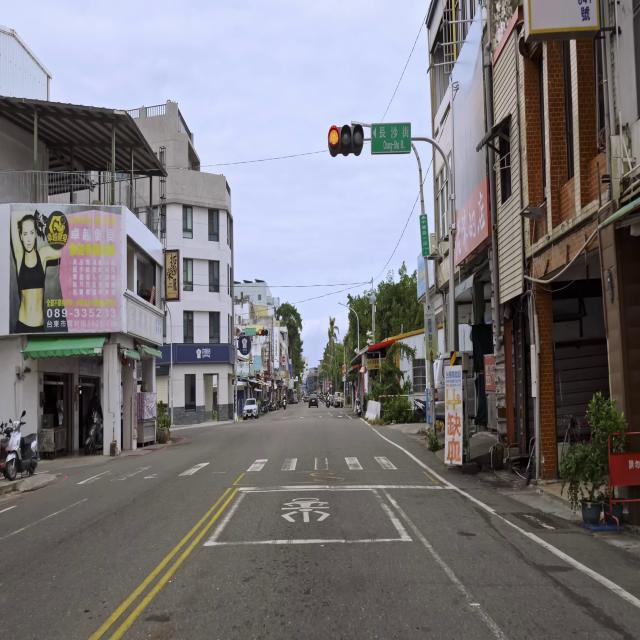red light: (328, 125, 363, 150), (258, 329, 268, 336)
